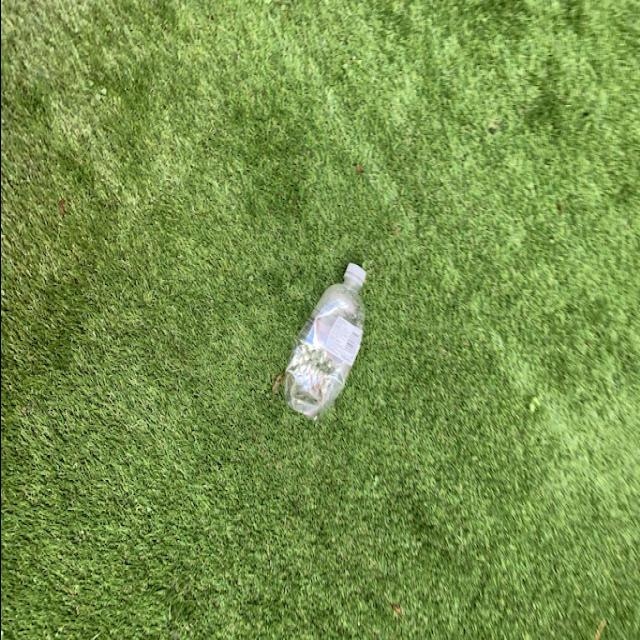PET: (277, 256, 371, 418)
